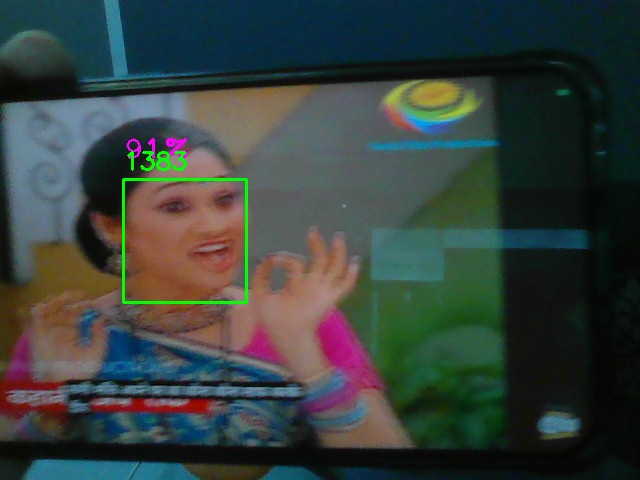fake: (123, 179, 247, 303)
